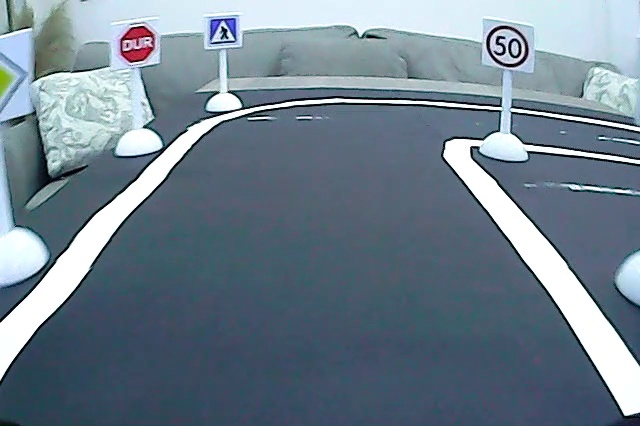pedestrian crossing: (206, 16, 239, 46)
speed limit 50: (485, 23, 530, 72)
stop sign: (117, 22, 160, 66)
